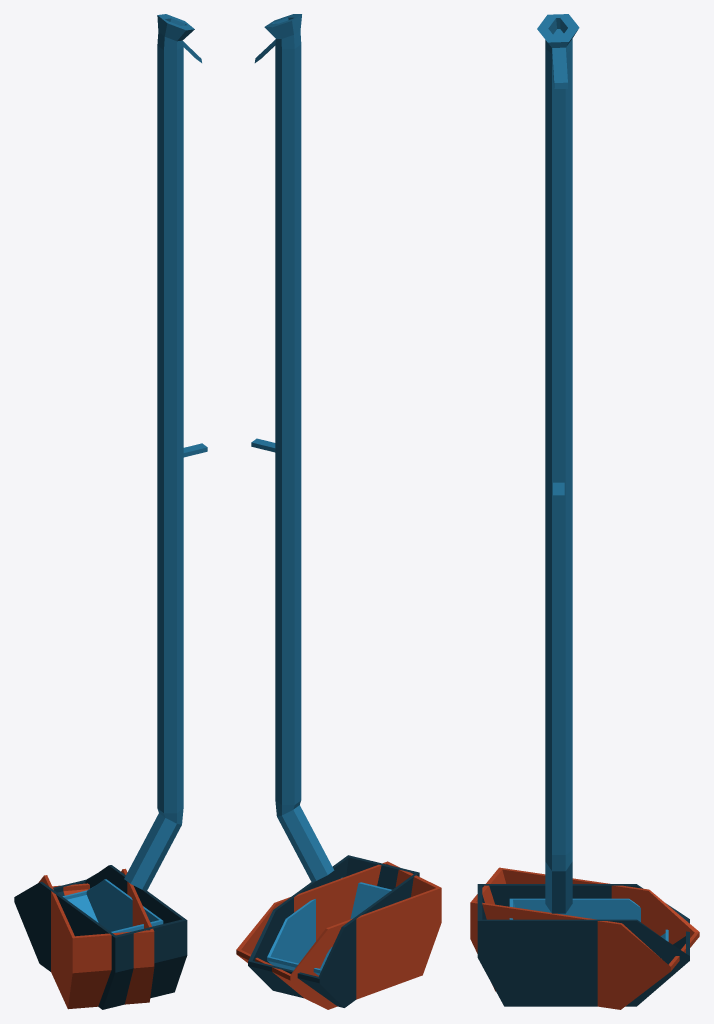
The model's file is Containers.glb.
3 views of the same model, side by side, from view 1: azimuth 30°, elevation 25°; view 2: azimuth 150°, elevation 25°; view 3: azimuth 270°, elevation 25° (orthographic). The views are drawn at different scales.
Visible parts, largest first — view 1: Container Wreckage Slide, Container Blue, Container Blue Small; view 2: Container Wreckage Slide, Container Blue, Container Blue Small; view 3: Container Wreckage Slide, Container Blue, Container Blue Small.
Boxes of the visible parts, x1,y1,x2,y2 form: Container Wreckage Slide: (38,14,207,1009); Container Blue: (14,865,187,1009); Container Blue Small: (62,879,163,933); Container Wreckage Slide: (236,14,441,1009); Container Blue: (248,855,419,1007); Container Blue Small: (267,877,391,975); Container Wreckage Slide: (470,14,699,1009); Container Blue: (477,884,689,1006); Container Blue Small: (509,898,668,941).
Size of the model in its own units: 3.68 by 20.79 by 4.32.
Materials: 1 (1 with a texture image).
